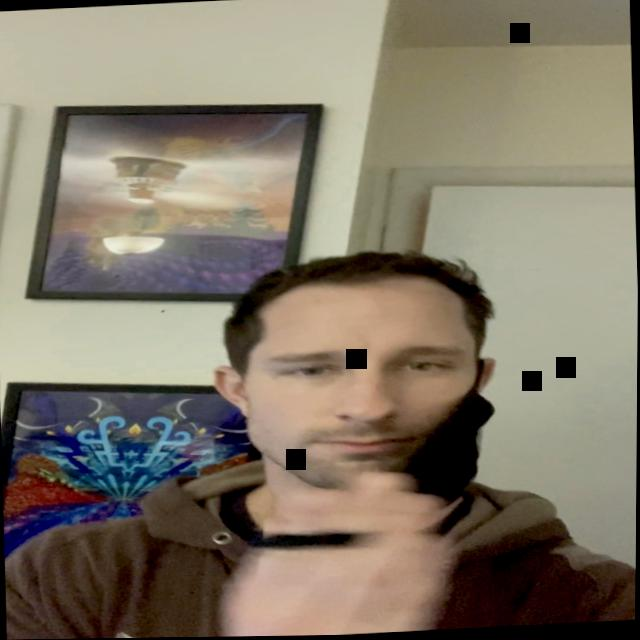NO-Mask: (222, 265, 506, 512)
